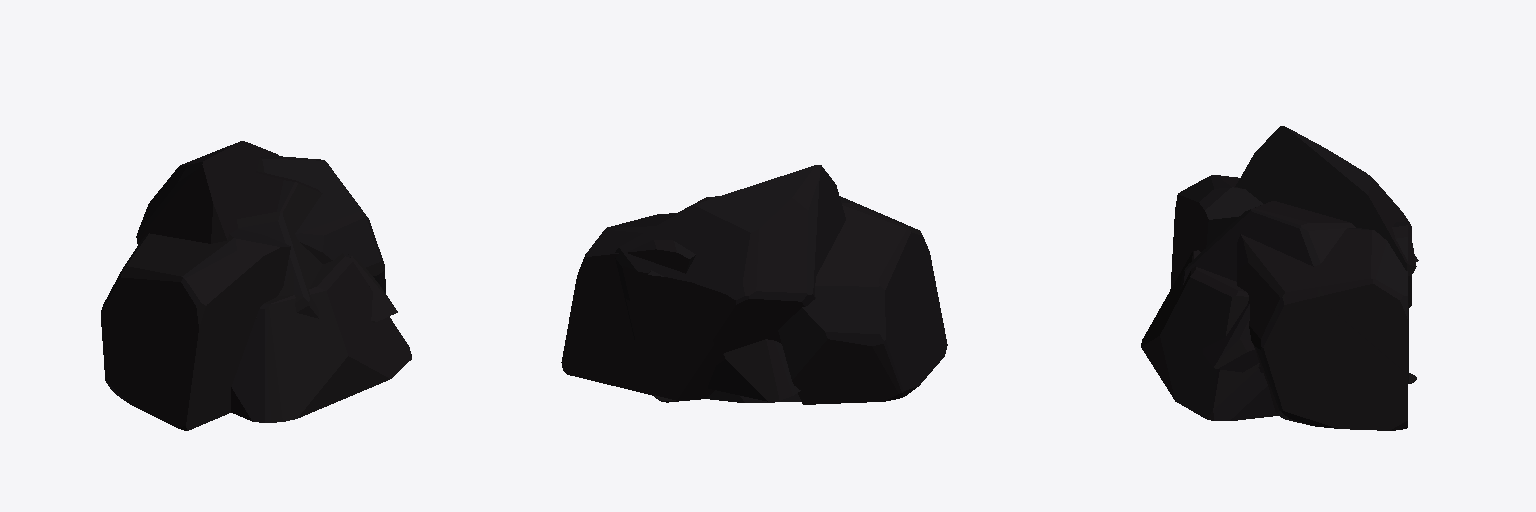
Rendered from Rock.obj.
The picture shows the model from 3 angles: view 1: azimuth 30°, elevation 25°; view 2: azimuth 150°, elevation 25°; view 3: azimuth 270°, elevation 25°; orthographic projection.
Parts seen in each view (by area): view 1: Rock1; view 2: Rock1; view 3: Rock1.
Part boxes in pixels (x1,y1,x2,y2): Rock1: (101, 141, 411, 430); Rock1: (561, 165, 947, 404); Rock1: (1141, 126, 1418, 430).
Size of the model in its own units: 17.26 by 12.13 by 14.53.